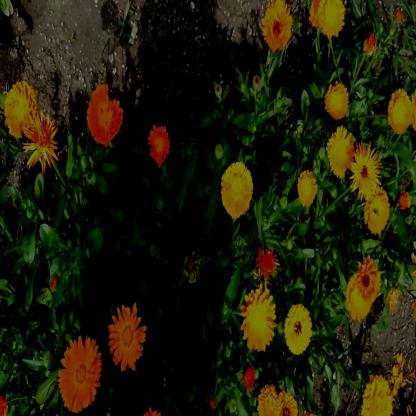marigold: (58, 335, 98, 412), (106, 304, 145, 370), (243, 287, 277, 351), (348, 262, 380, 320), (5, 80, 37, 137), (25, 114, 59, 167), (88, 88, 119, 145), (221, 160, 252, 216), (284, 304, 313, 354), (262, 2, 292, 48), (352, 144, 378, 197), (329, 127, 354, 175), (388, 86, 412, 134), (363, 376, 391, 413), (366, 191, 388, 233), (326, 82, 350, 117), (149, 122, 170, 162), (320, 0, 344, 35), (298, 170, 317, 207)
